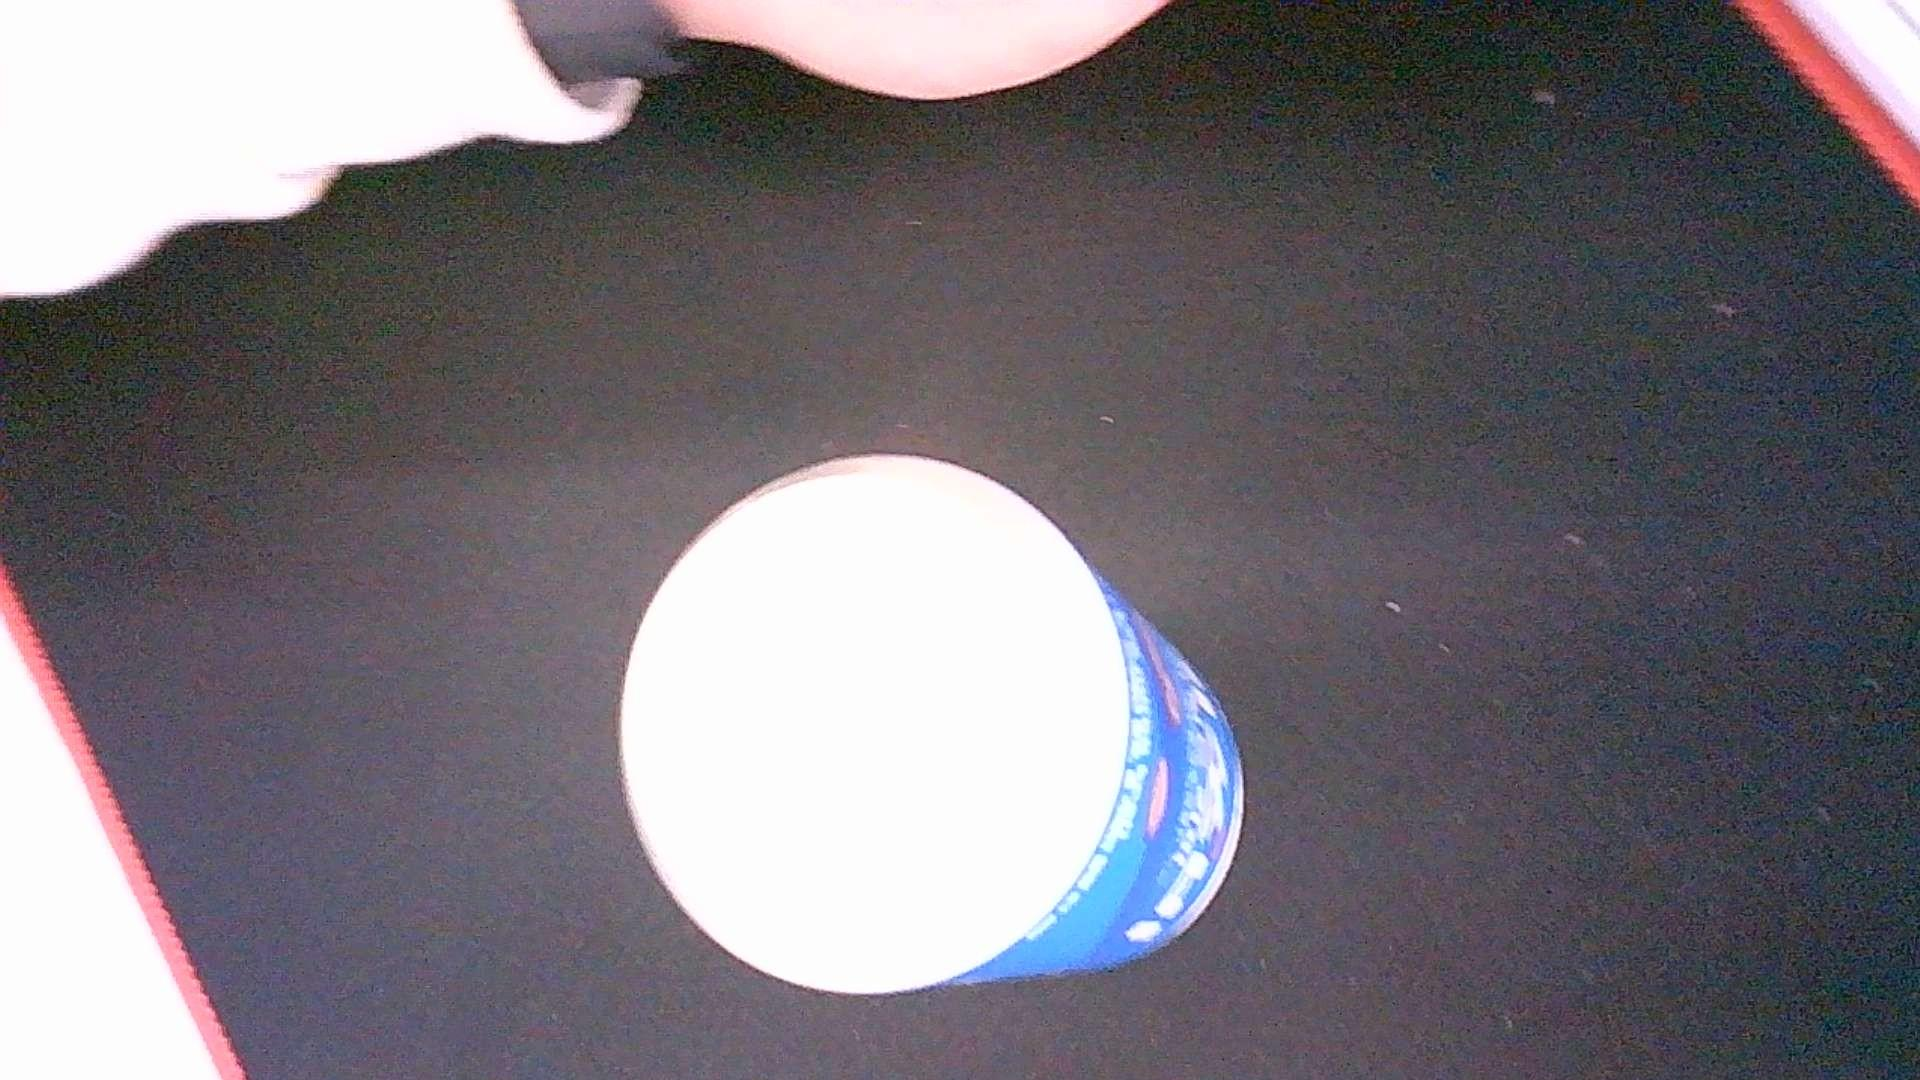letsbe: (621, 451, 1250, 994)
